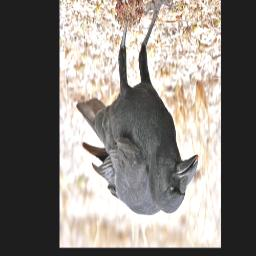Crow: (76, 0, 199, 216)
